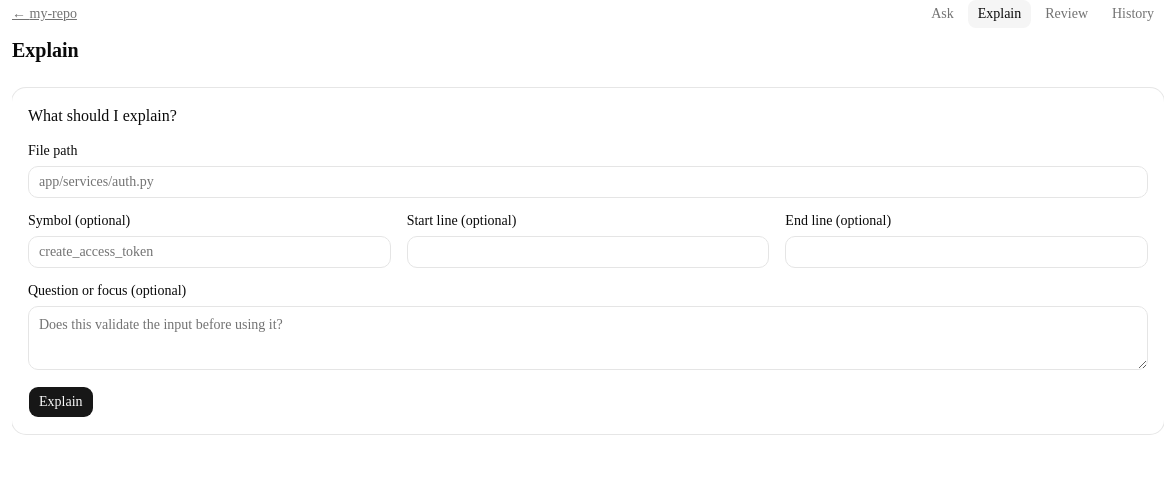
it: ExplainPage › rejects submission with no file path
Expected: the field labelled "File path" is shown, [28, 166, 1148, 198]
Click the button "Explain" at (61, 402), box [28, 386, 94, 418]
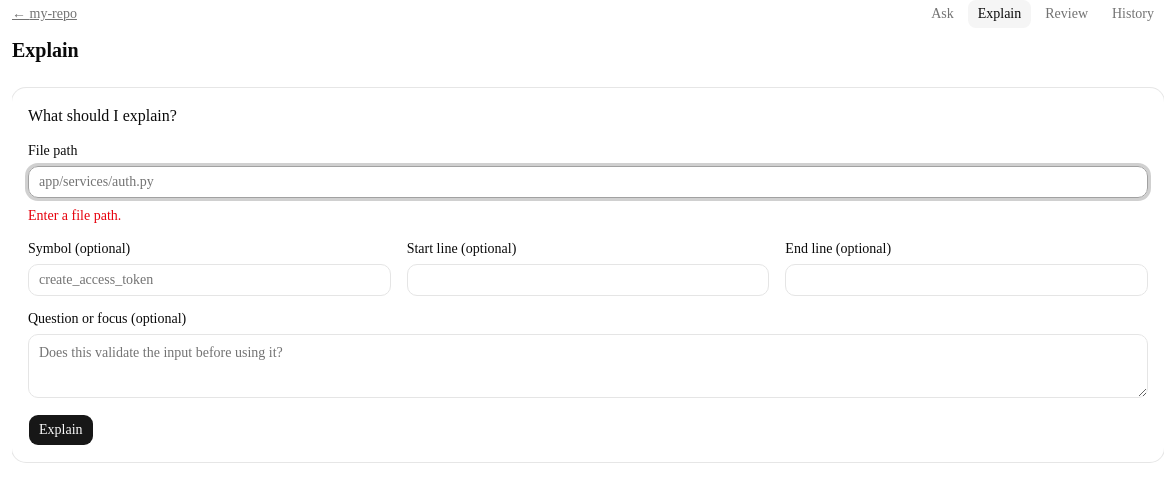
Expected: the text "Enter a file path." is shown, [28, 208, 121, 223]
